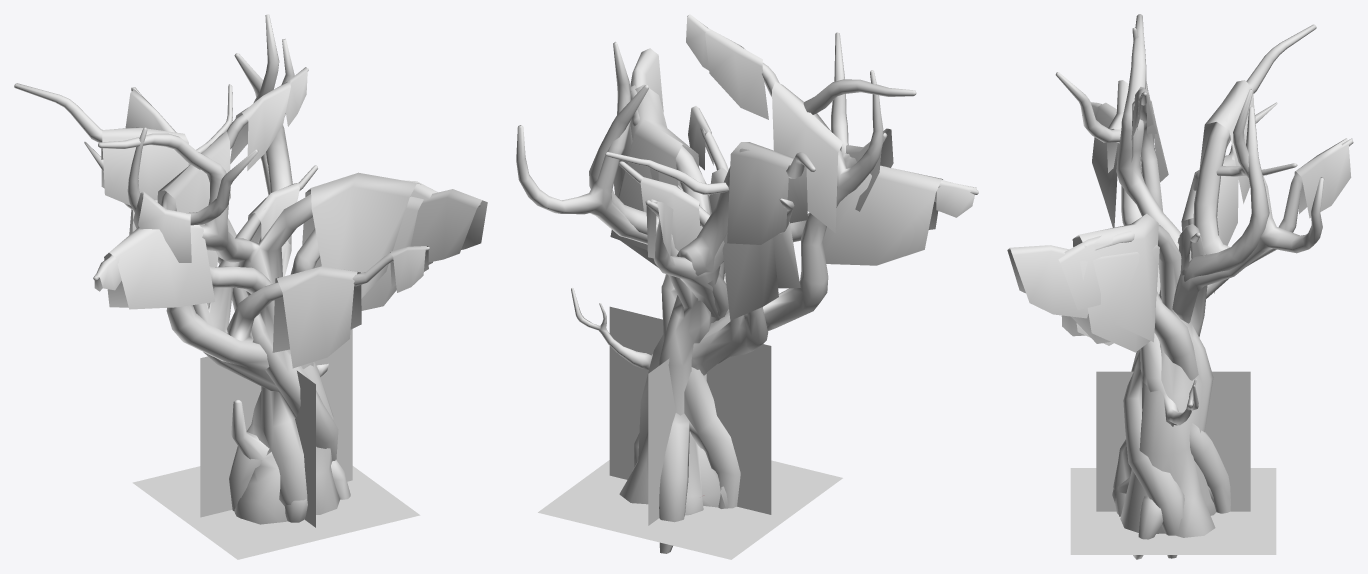
File: Bog_Pack_01.fbx
3 views of the same model, side by side, from view 1: azimuth 30°, elevation 25°; view 2: azimuth 150°, elevation 25°; view 3: azimuth 270°, elevation 25° (orthographic). The views are drawn at different scales.
Visible parts, largest first — view 1: Bog_Tree_02, Bog_Tree_03, Bog_Tree_01, Bog_round_leaves, Bog_Rush, Bog_tall_Grass; view 2: Bog_Tree_02, Bog_Tree_01, Bog_Tree_03, Bog_tall_Grass, Bog_round_leaves, Bog_Rush; view 3: Bog_Tree_02, Bog_Tree_01, Bog_round_leaves, Bog_tall_Grass, Bog_Tree_03.
Part boxes in pixels (bbox=[...]): Bog_Tree_02: bbox=[14, 53, 437, 524]; Bog_Tree_03: bbox=[127, 67, 429, 522]; Bog_Tree_01: bbox=[84, 14, 487, 519]; Bog_round_leaves: bbox=[132, 466, 420, 559]; Bog_Rush: bbox=[200, 329, 352, 517]; Bog_tall_Grass: bbox=[208, 344, 344, 527]; Bog_Tree_02: bbox=[589, 79, 978, 515]; Bog_Tree_01: bbox=[516, 32, 893, 553]; Bog_Tree_03: bbox=[605, 14, 883, 511]; Bog_tall_Grass: bbox=[617, 325, 763, 525]; Bog_round_leaves: bbox=[538, 460, 842, 559]; Bog_Rush: bbox=[609, 306, 771, 514]; Bog_Tree_02: bbox=[1058, 14, 1316, 537]; Bog_Tree_01: bbox=[1007, 72, 1353, 558]; Bog_round_leaves: bbox=[1070, 468, 1276, 554]; Bog_tall_Grass: bbox=[1096, 371, 1250, 511]; Bog_Tree_03: bbox=[1061, 27, 1297, 559].
Bounding box in the file's own units: 715 × 918 × 614.
